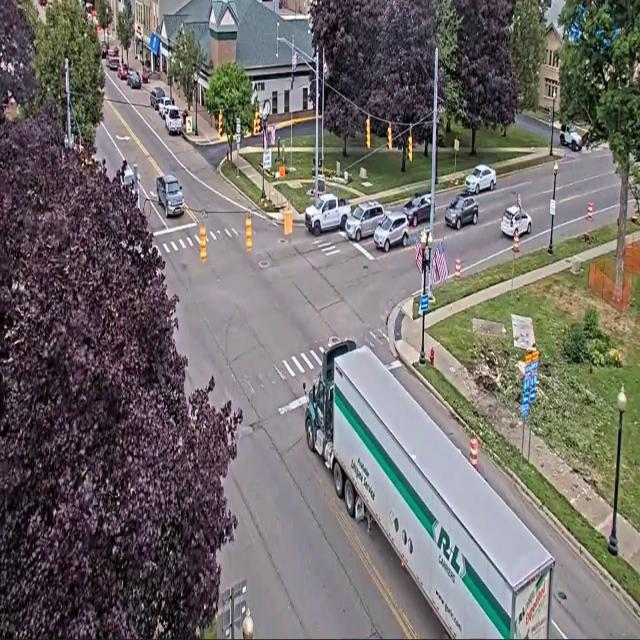car: (345, 201, 385, 242), (374, 211, 408, 252), (156, 174, 184, 217), (445, 194, 478, 230), (501, 206, 531, 237), (465, 165, 496, 194), (404, 192, 430, 226), (560, 124, 582, 151), (165, 106, 181, 135), (149, 86, 165, 110), (158, 96, 174, 119), (106, 53, 120, 71), (127, 70, 141, 88), (118, 63, 128, 80), (141, 67, 149, 83), (101, 41, 108, 59), (108, 47, 119, 57), (39, 0, 46, 7)
traffic signal: (245, 216, 252, 252), (200, 225, 206, 262), (253, 112, 259, 135), (387, 124, 392, 151), (366, 117, 370, 149), (218, 110, 222, 137), (408, 134, 412, 161)
truck: (303, 341, 554, 639), (305, 193, 350, 236)
